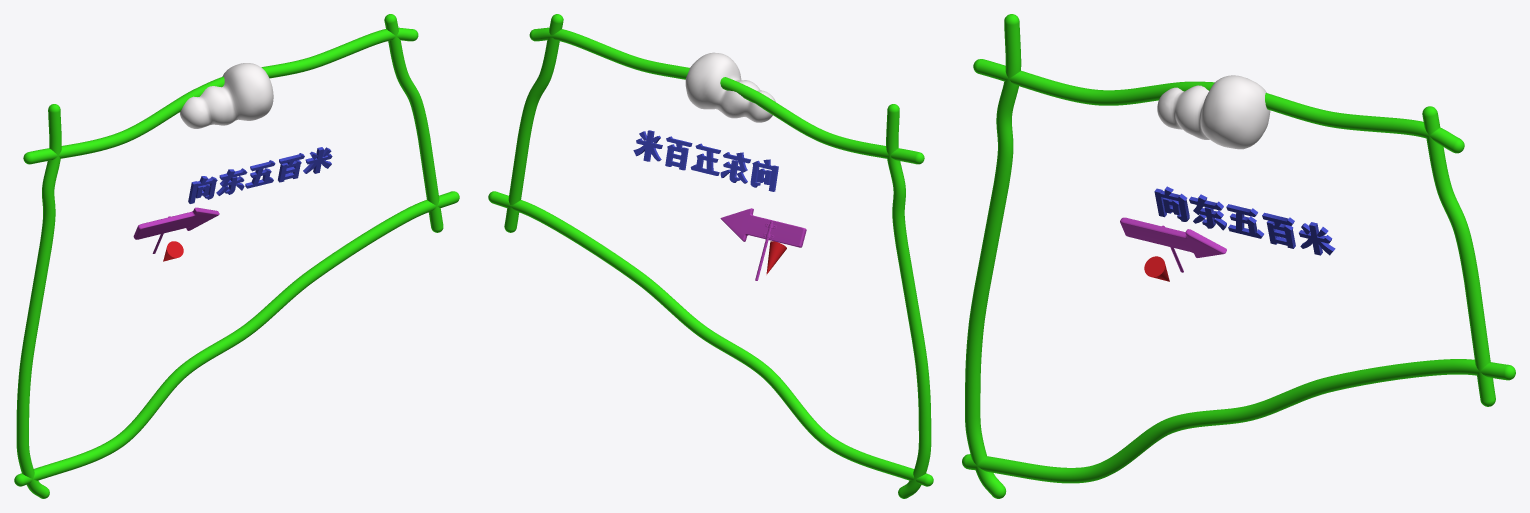
The model's file is xixi.glb.
The picture shows the model from 3 angles, left to right: view 1: azimuth 30°, elevation 25°; view 2: azimuth 150°, elevation 25°; view 3: azimuth 330°, elevation 25°; orthographic projection. The views are drawn at different scales.
Visible parts, largest first — view 1: node_id87, node_id40, node_id68, node_id46; view 2: node_id87, node_id40, node_id68, node_id46; view 3: node_id87, node_id40, node_id68, node_id46.
Part boxes in pixels (box(x1,y1,x2,y2)): node_id87: box(14, 14, 459, 498); node_id40: box(179, 63, 273, 128); node_id68: box(188, 147, 332, 203); node_id46: box(133, 207, 219, 253); node_id87: box(488, 14, 933, 498); node_id40: box(685, 52, 775, 122); node_id68: box(633, 130, 778, 191); node_id46: box(720, 208, 806, 280); node_id87: box(962, 14, 1515, 498); node_id40: box(1157, 75, 1270, 149); node_id68: box(1154, 186, 1335, 255); node_id46: box(1120, 217, 1226, 272).
Size of the model in its own units: 2.44 by 2.1 by 0.3905.
Materials: 8 (8 with a texture image).
